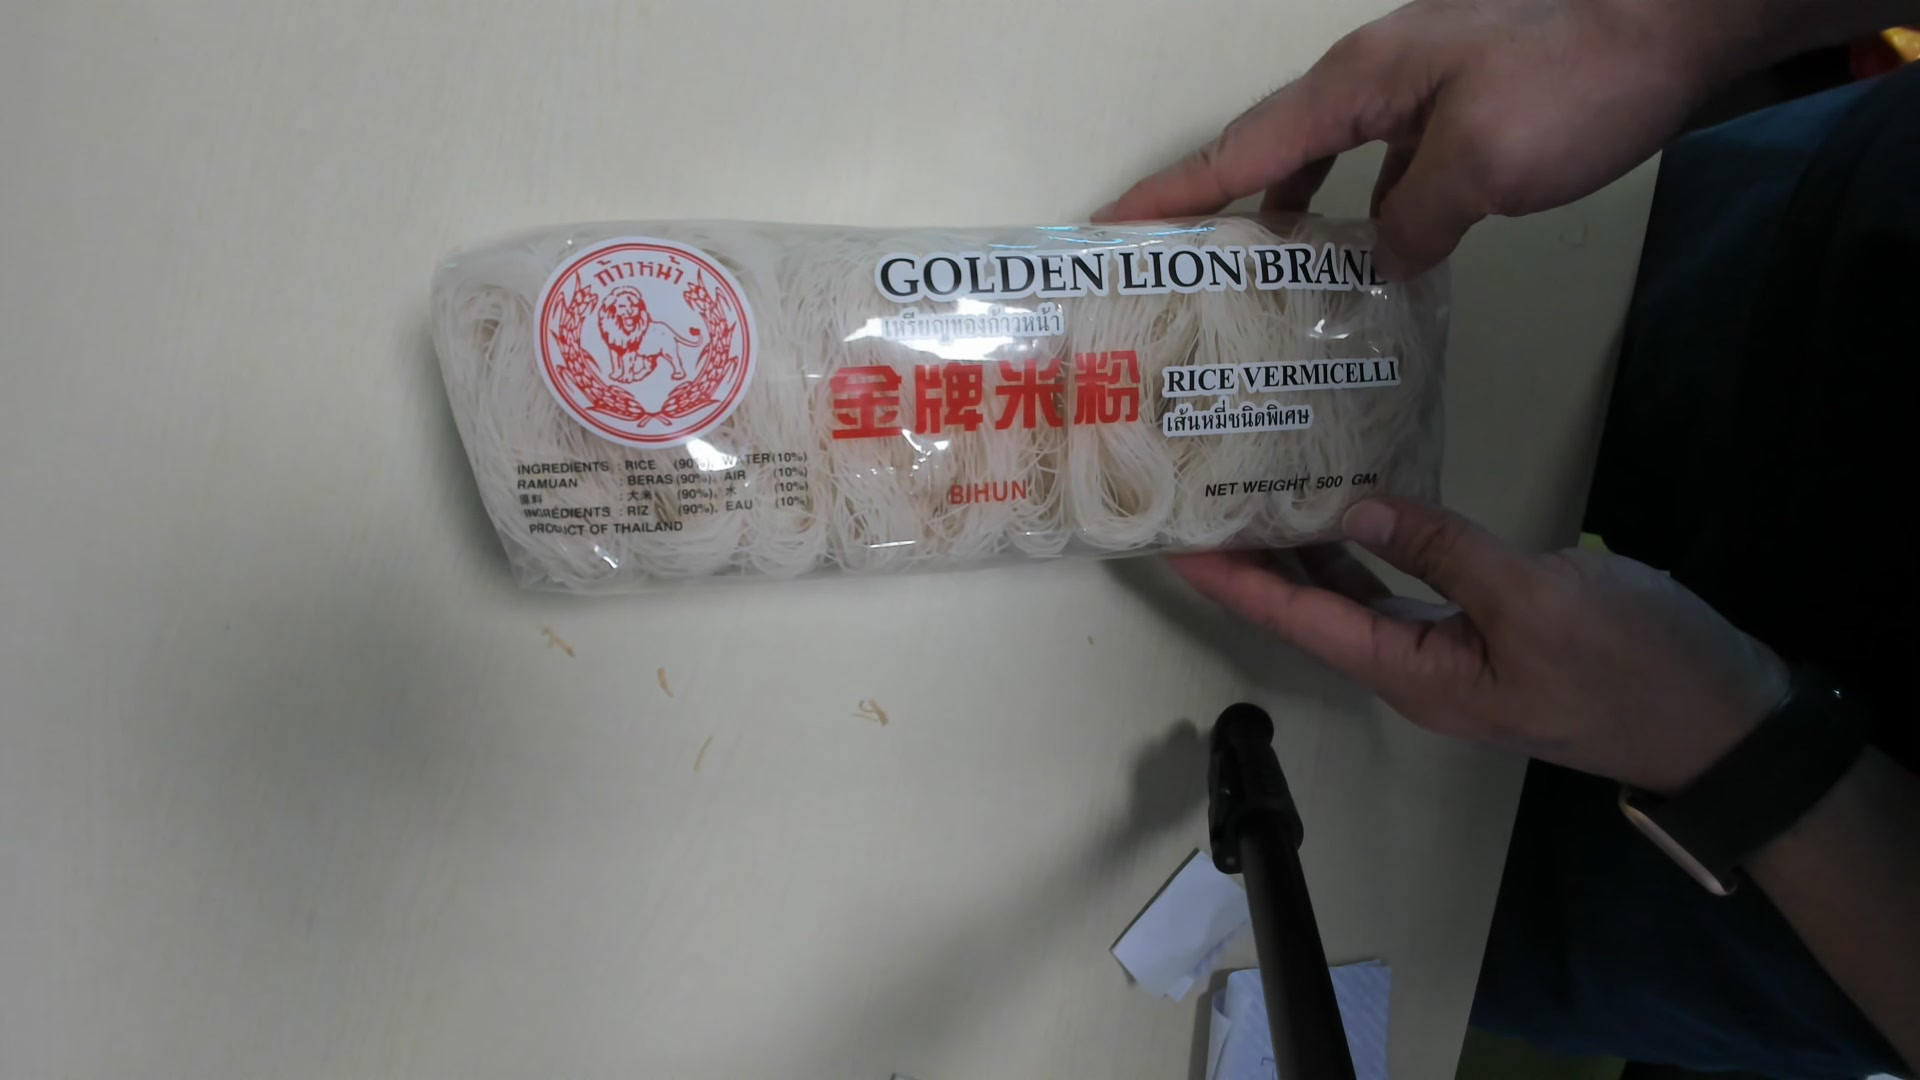BeeHoonVermicelli_500-599g_Halal_NonHealthy: (419, 214, 1455, 589)
